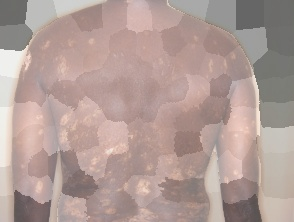vitiligo: (57, 102, 212, 222), (15, 19, 101, 99)
